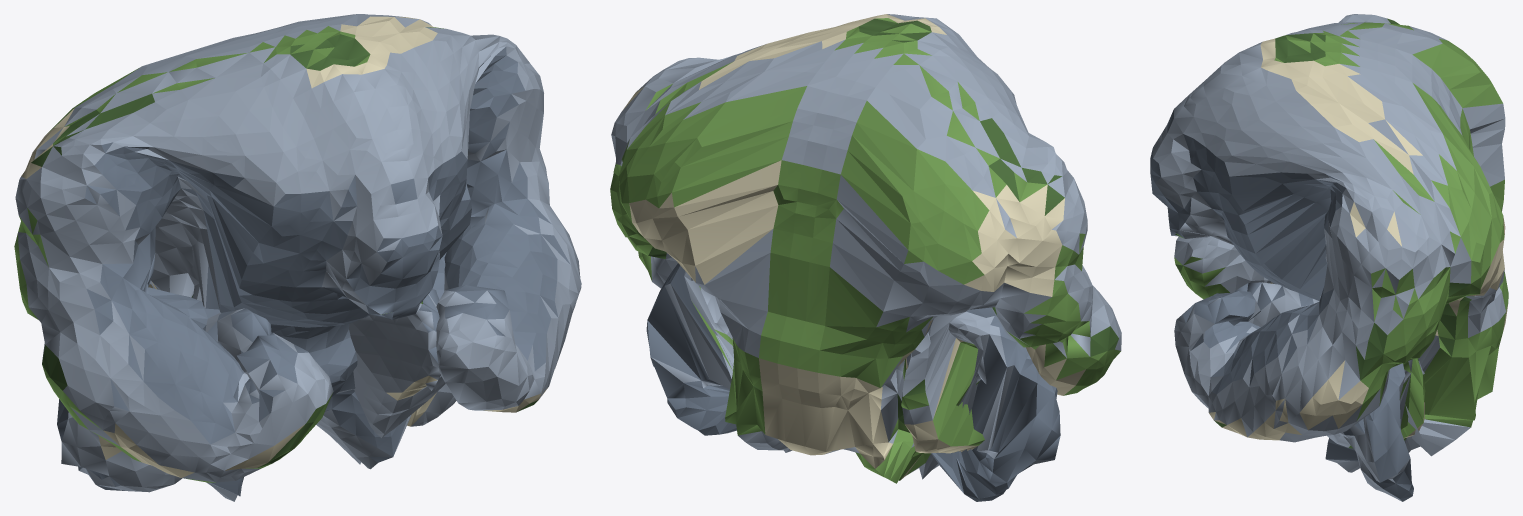
File: giant_seated.glb
3 views of the same model, side by side, from view 1: azimuth 30°, elevation 25°; view 2: azimuth 150°, elevation 25°; view 3: azimuth 270°, elevation 25° (orthographic). The views are drawn at different scales.
Parts seen in each view (by area): view 1: Giant; view 2: Giant; view 3: Giant.
Part boxes in pixels (left/top/right/bottom): Giant: left=14, top=14, right=581, bottom=501; Giant: left=610, top=14, right=1121, bottom=501; Giant: left=1150, top=14, right=1508, bottom=501.
Size of the model in its own units: 7.2 by 6.14 by 4.96.
